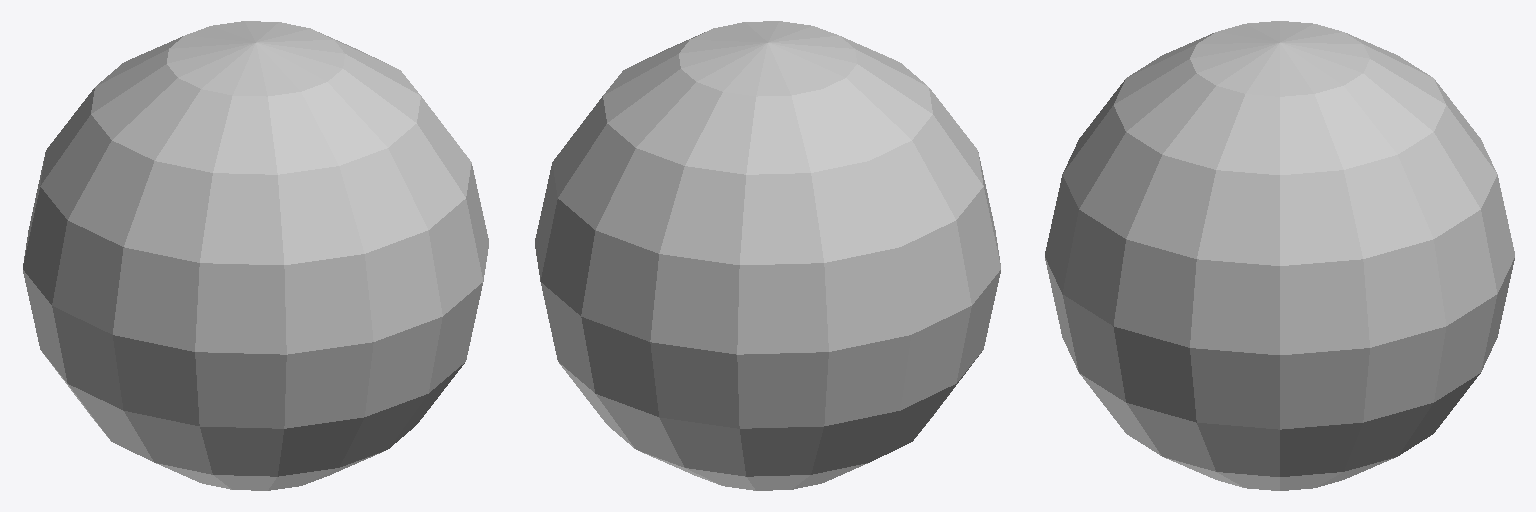
Rendered from bola14.obj.
3 views of the same model, side by side, from view 1: azimuth 30°, elevation 25°; view 2: azimuth 150°, elevation 25°; view 3: azimuth 270°, elevation 25° (orthographic).
Visible parts, largest first — view 1: POOL_TABLE.038; view 2: POOL_TABLE.038; view 3: POOL_TABLE.038.
Part boxes in pixels (x1,y1,x2,y2): POOL_TABLE.038: (23,21,488,490); POOL_TABLE.038: (535,21,1000,490); POOL_TABLE.038: (1045,21,1514,490).
Size of the model in its own units: 0.0585 by 0.0585 by 0.0585.